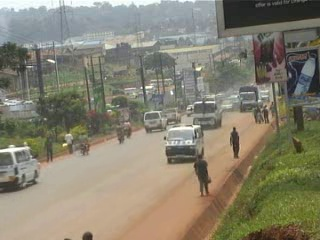Car: (219, 99, 233, 113), (185, 100, 195, 117)
Motorcycle: (76, 129, 93, 156), (115, 121, 127, 146), (122, 118, 132, 138)
